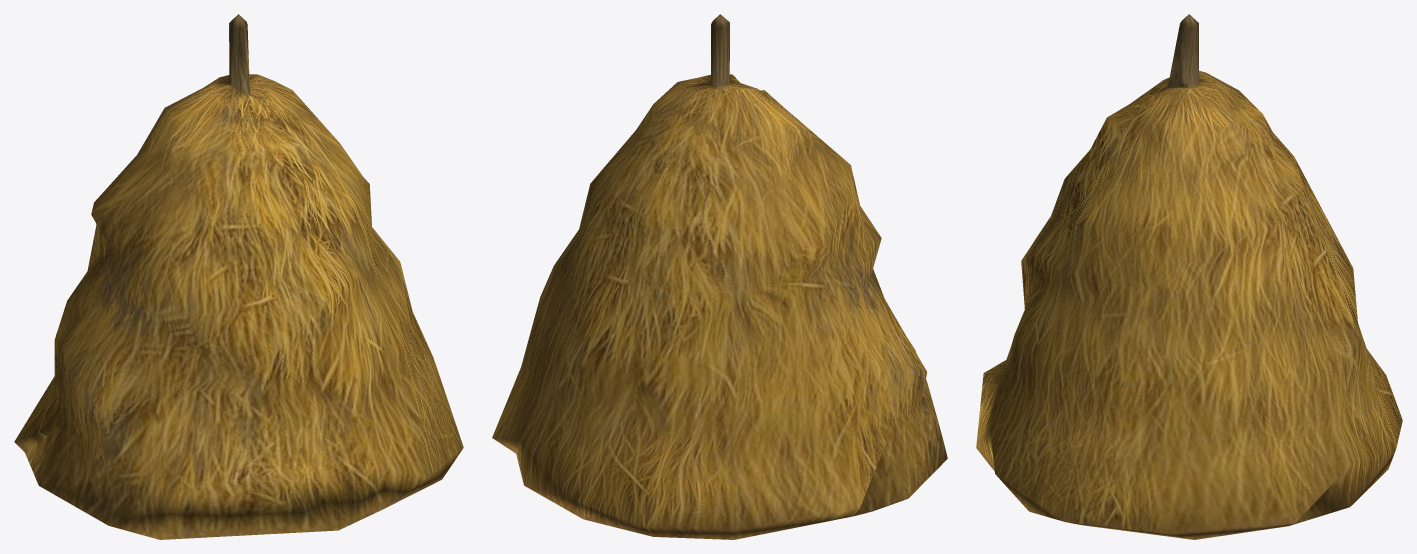
The model's file is prop-haystack.glb.
The picture shows the model from 3 angles, left to right: view 1: azimuth 30°, elevation 25°; view 2: azimuth 150°, elevation 25°; view 3: azimuth 270°, elevation 25°; orthographic projection.
Bounding box in the file's own units: 0.8779 × 0.9487 × 0.8379.
Materials: 1 (1 with a texture image).
